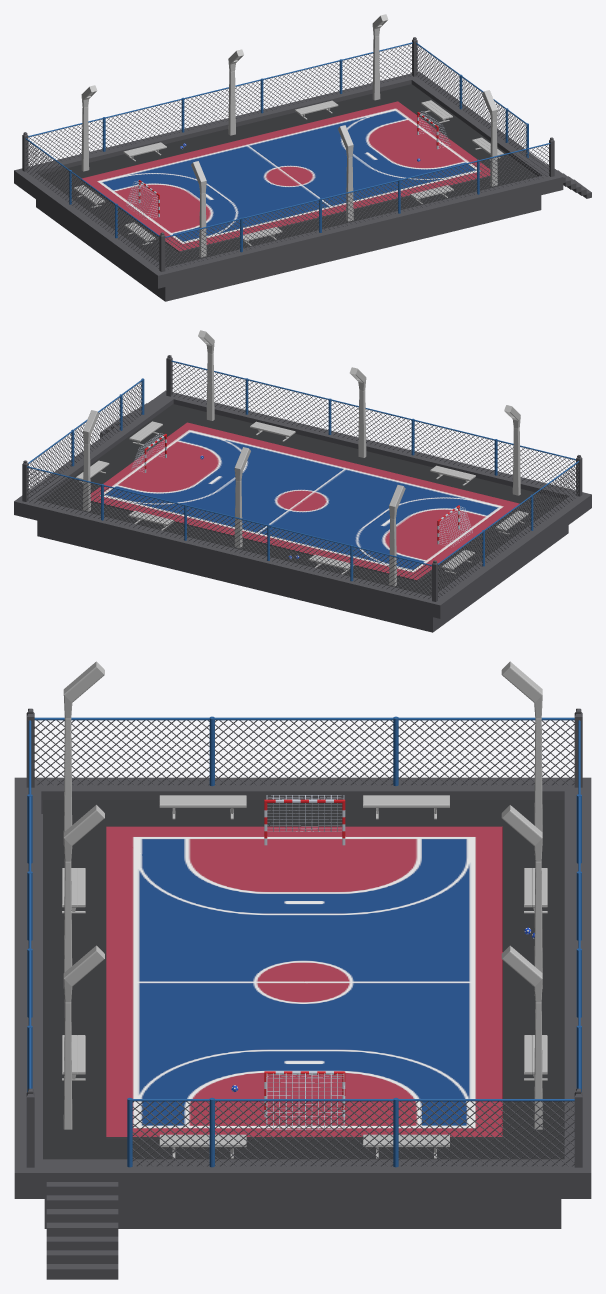
The model's file is handball_court.fbx.
The picture shows the model from 3 angles, top to bottom: view 1: azimuth 30°, elevation 25°; view 2: azimuth 150°, elevation 25°; view 3: azimuth 270°, elevation 25°; orthographic projection. The views are drawn at different scales.
Parts seen in each view (by area): view 1: handball_base, handball_court, fence, handball_lamppost2, handball_lamppost1, handball_lamppost3, handball_goal, handball_lamppost4, handball_lamppost5, handball_lamppost6, handball_goal2; view 2: handball_base, handball_court, fence, handball_lamppost4, handball_lamppost6, handball_lamppost5, handball_goal, handball_lamppost3, handball_lamppost2, handball_lamppost1, handball_goal2; view 3: handball_court, handball_base, fence, stairs, handball_goal2, handball_lamppost1, handball_goal, handball_lamppost6, handball_lamppost3, handball_lamppost4, handball_lamppost2, handball_lamppost5 (+5 smaller).
Part boxes in pixels (x1,y1,x2,y2): handball_base: (14, 71, 563, 301); handball_court: (80, 101, 490, 252); fence: (22, 37, 554, 271); handball_lamppost2: (338, 125, 353, 221); handball_lamppost1: (482, 90, 497, 186); handball_lamppost3: (191, 161, 206, 257); handball_goal: (126, 180, 159, 219); handball_lamppost4: (81, 85, 97, 171); handball_lamppost5: (228, 49, 243, 135); handball_lamppost6: (372, 14, 388, 100); handball_goal2: (417, 111, 450, 149); handball_base: (14, 390, 591, 632); handball_court: (90, 422, 520, 581); fence: (22, 355, 582, 601); handball_lamppost4: (389, 485, 405, 586); handball_lamppost6: (83, 410, 99, 511); handball_lamppost5: (234, 447, 250, 548); handball_goal: (437, 505, 472, 547); handball_lamppost3: (504, 405, 520, 495); handball_lamppost2: (349, 367, 366, 457); handball_lamppost1: (198, 330, 214, 420); handball_goal2: (131, 433, 166, 472); handball_court: (106, 826, 503, 1139); handball_base: (14, 777, 591, 1228); fence: (26, 708, 582, 1167); stairs: (46, 1182, 118, 1279); handball_goal2: (264, 1071, 345, 1129); handball_lamppost1: (63, 945, 104, 1129); handball_goal: (264, 795, 345, 845); handball_lamppost6: (501, 945, 542, 1129); handball_lamppost3: (63, 661, 104, 844); handball_lamppost4: (501, 661, 542, 845); handball_lamppost2: (63, 805, 104, 988); handball_lamppost5: (501, 805, 542, 988).
Bounding box in the file's own units: 11.12 × 2.9 × 6.29.
Materials: 13 (1 with a texture image).
